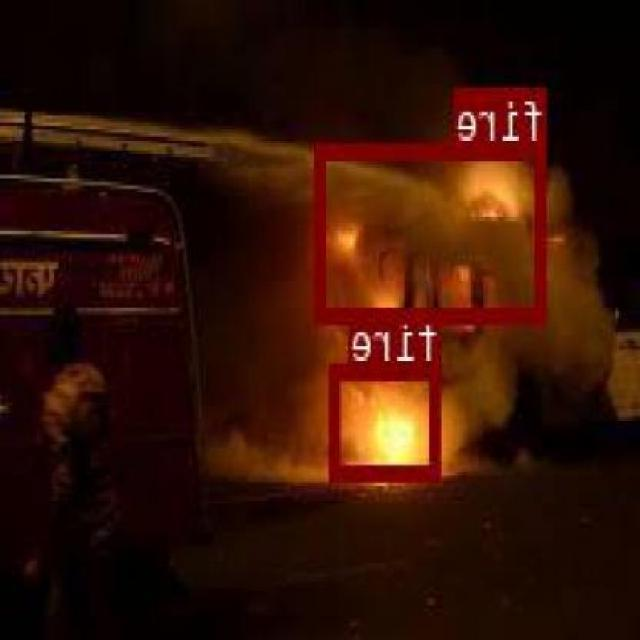Fire: (317, 143, 548, 320), (332, 361, 442, 476)
